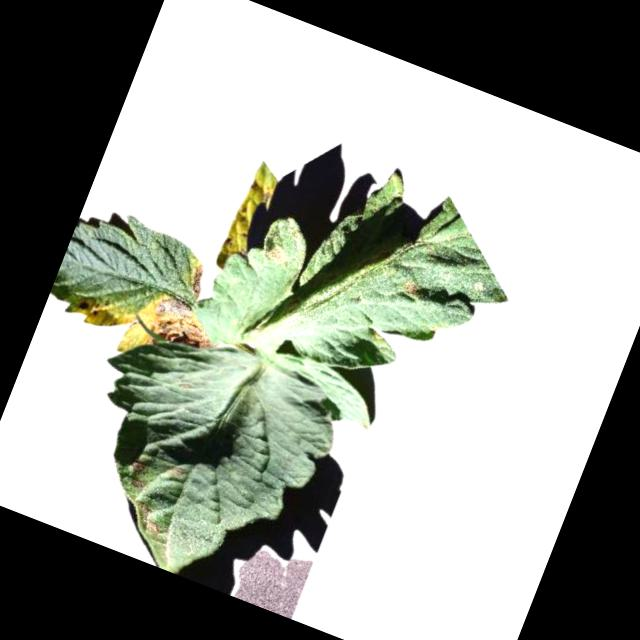Early_blight: (135, 289, 225, 370), (127, 500, 168, 537), (182, 270, 212, 303), (123, 460, 153, 492), (243, 178, 274, 206), (69, 294, 97, 322), (264, 242, 292, 268), (399, 279, 425, 302)
